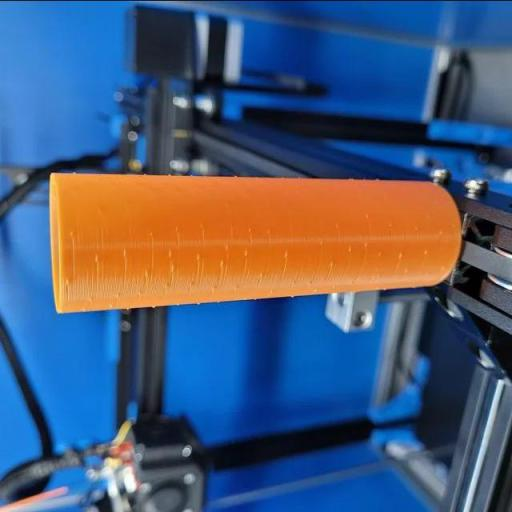blobs: (92, 249, 102, 262), (376, 250, 386, 260), (173, 224, 182, 234), (281, 248, 289, 259), (142, 267, 150, 277), (193, 250, 201, 260), (242, 248, 250, 258), (346, 242, 354, 252), (396, 250, 404, 260), (421, 248, 429, 258), (329, 258, 337, 268), (120, 248, 128, 257), (114, 290, 122, 299), (387, 219, 394, 228), (166, 247, 172, 257), (220, 258, 226, 268), (224, 242, 231, 250), (187, 280, 194, 288), (65, 277, 71, 286), (413, 224, 419, 233), (148, 230, 155, 237), (437, 228, 444, 235), (170, 263, 176, 271), (164, 281, 170, 289), (68, 230, 74, 238), (211, 282, 217, 290), (258, 270, 264, 277), (364, 212, 371, 218), (402, 265, 409, 271), (247, 226, 253, 232), (364, 240, 368, 248), (88, 294, 93, 300)
